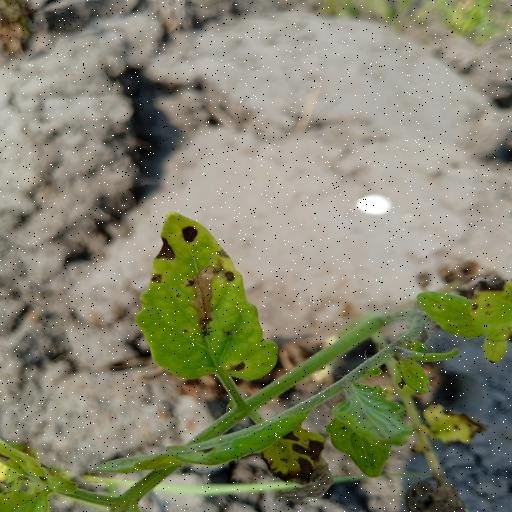Tomato_Brown_Spots: (137, 211, 282, 385)
